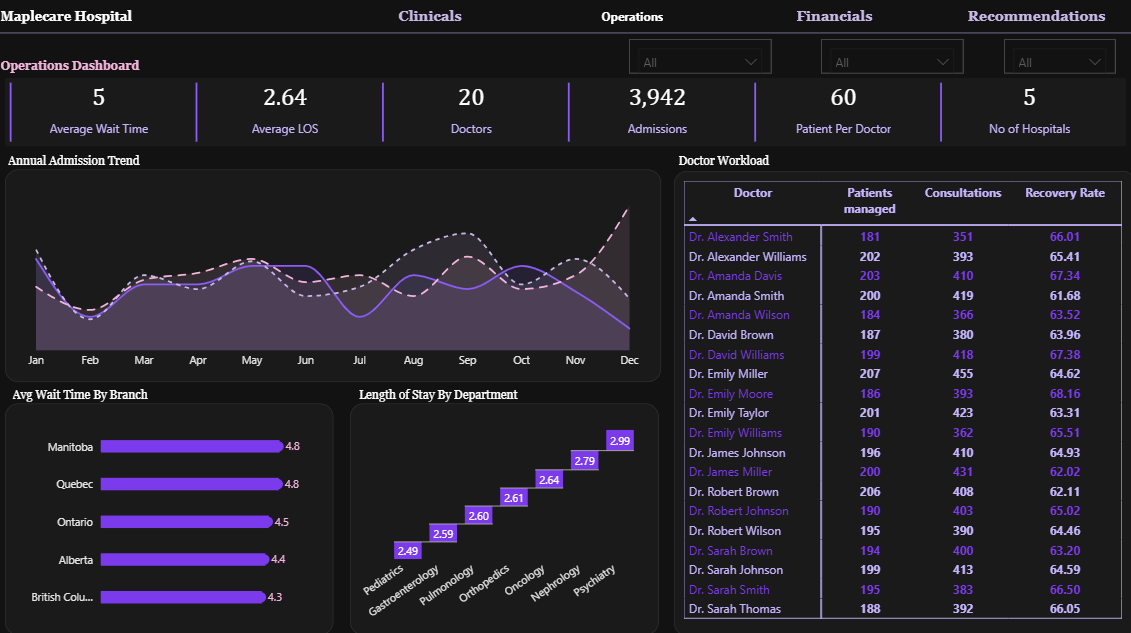

What the dashboard file says about the page in this screenshot:
{"tool":"powerbi","page":{"name":"Operations","canvas":[1280,720],"ordinal":2},"visuals":[{"type":"shape","box":[0,0,1280,720],"z":0},{"type":"cardVisual","fields":{"Data":["KPI_Measures.Avg_Wait_Time","KPI_Measures.Avg_LOS","KPI_Measures.Doctors","KPI_Measures.Inpatient_Admissions","KPI_Measures.Patient_Per_Doctor","CountNonNull(Hospital_Dim.Hospital_ID)"]},"box":[10,95,1258.3,76.7],"z":1000},{"type":"lineChart","fields":{"Series":["Date_Dim.Year"],"Category":["Date_Dim.Month"],"Y":["KPI_Measures.Inpatient_Admissions"]},"box":[10,196.7,736.7,238.3],"z":2000},{"type":"clusteredBarChart","fields":{"Category":["Hospital_Dim.Branch_Name"],"Y":["KPI_Measures.Avg_Wait_Time"]},"box":[10,460,368.3,260],"z":3000},{"type":"pivotTable","fields":{"Values":["KPI_Measures.Total_Patients","CountNonNull(Fact_Hospital_Visits.Patient_ID)","KPI_Measures.Average_Recovery_Score"],"Rows":["Doctor_Dim.Doctor_Name"]},"box":[761.7,198.3,518.3,521.7],"z":4000},{"type":"waterfallChart","fields":{"Category":["Department_Dim.Department_Name"],"Y":["KPI_Measures.Avg_LOS"]},"box":[396.7,460,346.7,260],"z":5000},{"type":"textbox","box":[13.3,435,181.7,28.3],"z":6000},{"type":"textbox","box":[8.3,171.7,181.7,28.3],"z":7000},{"type":"textbox","box":[403.3,435,206.7,28.3],"z":8000},{"type":"textbox","box":[761.7,171.7,130,28.3],"z":9000},{"type":"shape","box":[0,36.7,1280,13.3],"z":10000},{"type":"textbox","box":[0,9.6,181.7,28.3],"z":11000},{"type":"slicer","fields":{"Values":["Date_Dim.Year"]},"box":[1131.7,50.8,125,38.3],"z":12000},{"type":"slicer","fields":{"Values":["Hospital_Dim.Branch_Name"]},"box":[926.7,50.8,160,38.3],"z":13000},{"type":"slicer","fields":{"Values":["Department_Dim.Department_Name"]},"box":[710,50.8,160,38.3],"z":14000},{"type":"textbox","box":[0,65,305,33.3],"z":15000},{"type":"pageNavigator","box":[378.9,0,901.1,50.5],"z":16000}]}

Visuals, with their boxes in screenshot pixels (x1, y1, x2, y2), scaled from the page's 1280x720 canvas onto the 1131x633 screenshot:
shape: 0/0/1130/632
cardVisual - KPI_Measures.Avg_Wait_Time x KPI_Measures.Avg_LOS: 9/84/1121/151
lineChart - Date_Dim.Year x Date_Dim.Month: 9/173/660/382
clusteredBarChart - Hospital_Dim.Branch_Name x KPI_Measures.Avg_Wait_Time: 9/404/334/632
pivotTable - KPI_Measures.Total_Patients x CountNonNull(Fact_Hospital_Visits.Patient_ID): 673/174/1130/632
waterfallChart - Department_Dim.Department_Name x KPI_Measures.Avg_LOS: 351/404/657/632
textbox: 12/382/172/407
textbox: 7/151/168/176
textbox: 356/382/539/407
textbox: 673/151/788/176
shape: 0/32/1130/44
textbox: 0/8/161/33
slicer - Date_Dim.Year: 1000/45/1110/78
slicer - Hospital_Dim.Branch_Name: 819/45/960/78
slicer - Department_Dim.Department_Name: 627/45/769/78
textbox: 0/57/269/86
pageNavigator: 335/0/1130/44
